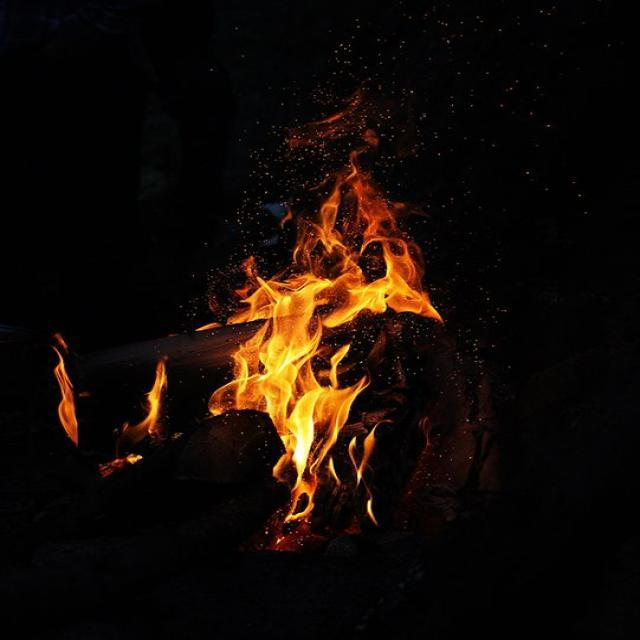Fire: (226, 196, 441, 564)
